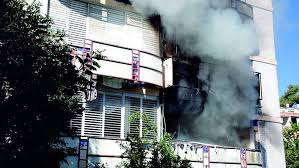smoke: (125, 1, 270, 150)
